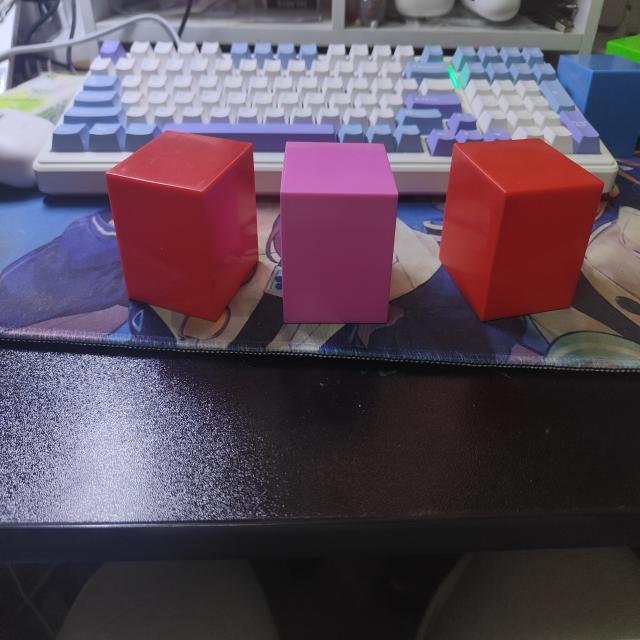pink: (276, 141, 399, 328)
red: (439, 138, 605, 328), (104, 127, 259, 325)
